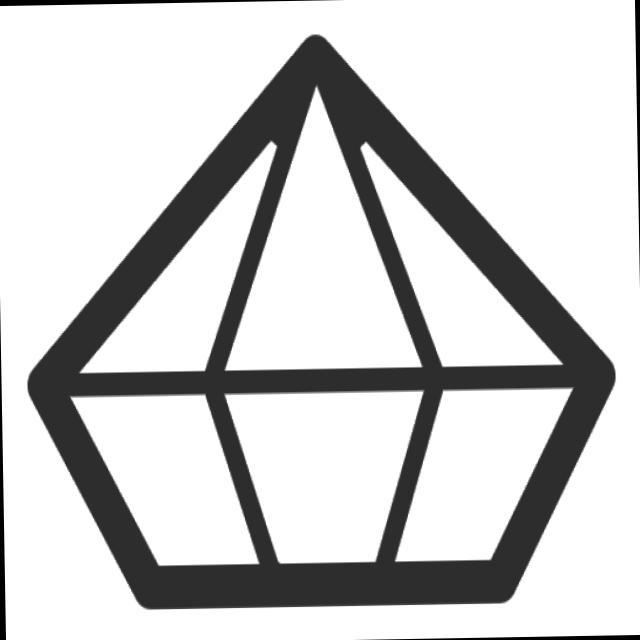diamond: (7, 14, 631, 626)
